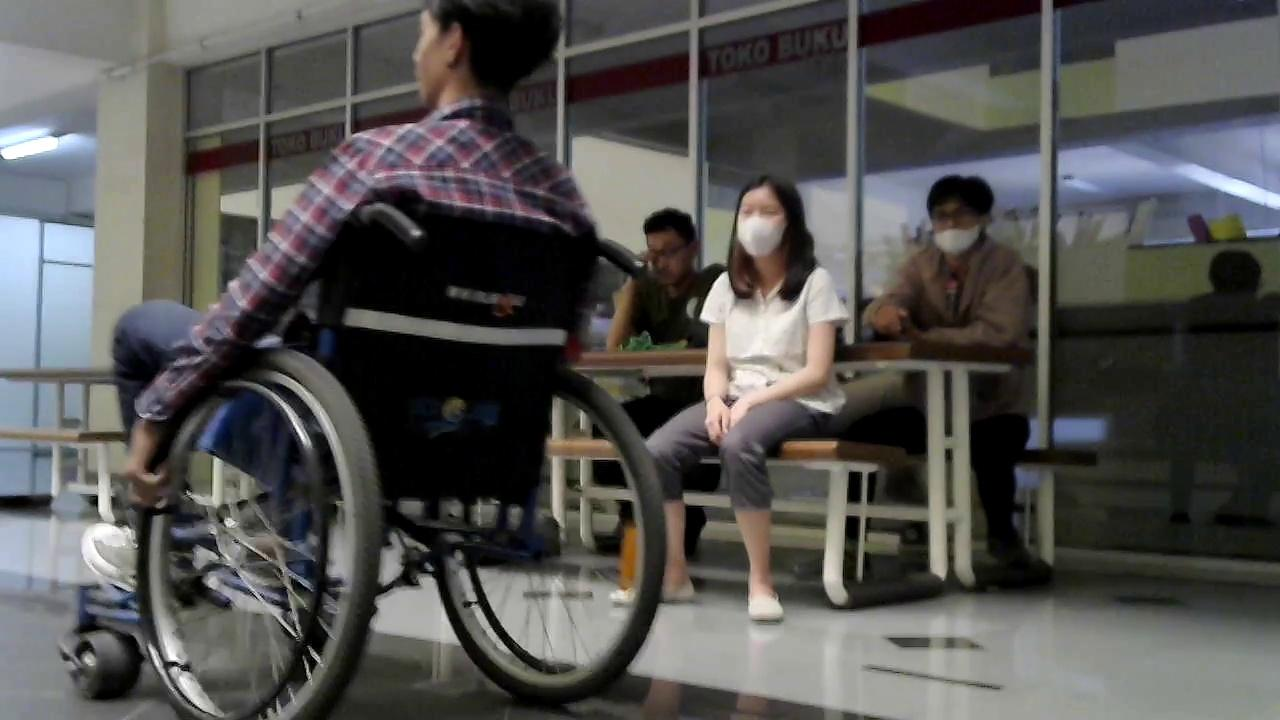person: (112, 3, 605, 524), (647, 176, 851, 624), (856, 174, 1045, 593), (604, 207, 724, 436)
wheelchair: (58, 203, 679, 720)
